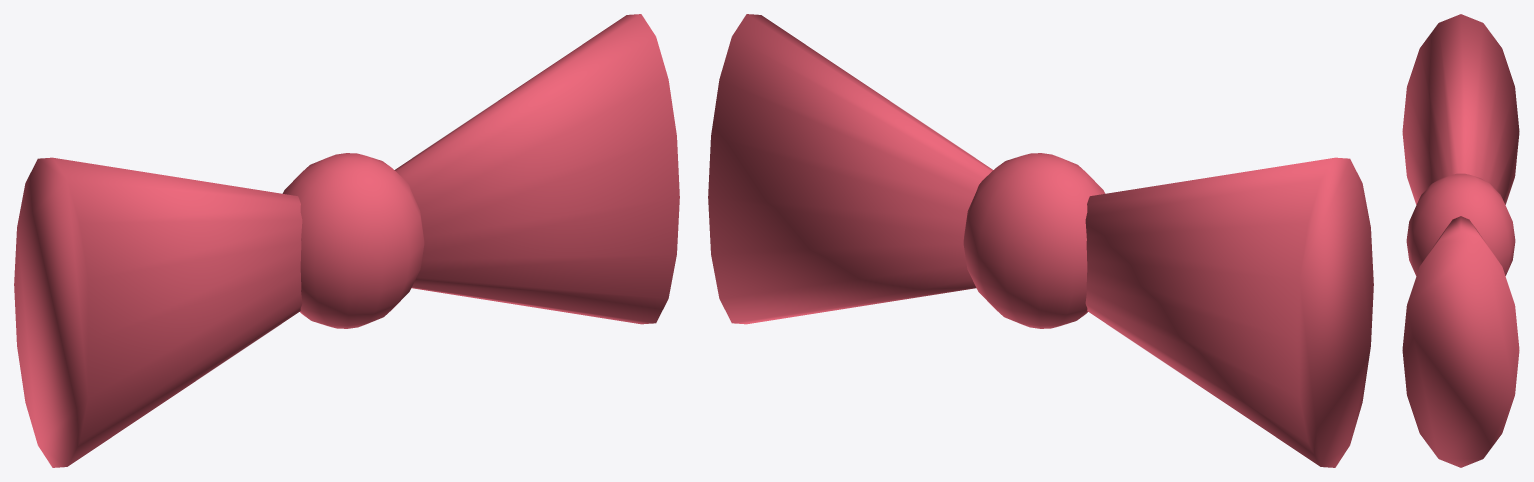
Rendered from costume_bow_tie.glb.
3 renders of one model, left to right at view 1: azimuth 30°, elevation 25°; view 2: azimuth 150°, elevation 25°; view 3: azimuth 270°, elevation 25°, orthographic. The views are drawn at different scales.
Parts seen in each view (by area): view 1: costume_bow_tie_wing_L, costume_bow_tie_wing_R, costume_bow_tie_knot; view 2: costume_bow_tie_wing_L, costume_bow_tie_wing_R, costume_bow_tie_knot; view 3: costume_bow_tie_wing_R, costume_bow_tie_wing_L, costume_bow_tie_knot.
Part boxes in pixels (<box>): costume_bow_tie_wing_L: <box>14,157,302,467</box>; costume_bow_tie_wing_R: <box>394,14,679,324</box>; costume_bow_tie_knot: <box>282,153,424,328</box>; costume_bow_tie_wing_L: <box>1085,157,1373,467</box>; costume_bow_tie_wing_R: <box>708,14,993,324</box>; costume_bow_tie_knot: <box>963,153,1105,328</box>; costume_bow_tie_wing_R: <box>1402,216,1519,467</box>; costume_bow_tie_wing_L: <box>1402,14,1519,204</box>; costume_bow_tie_knot: <box>1406,173,1515,275</box>.
Bounding box in the file's own units: 0.027 × 0.0136 × 0.00612.
